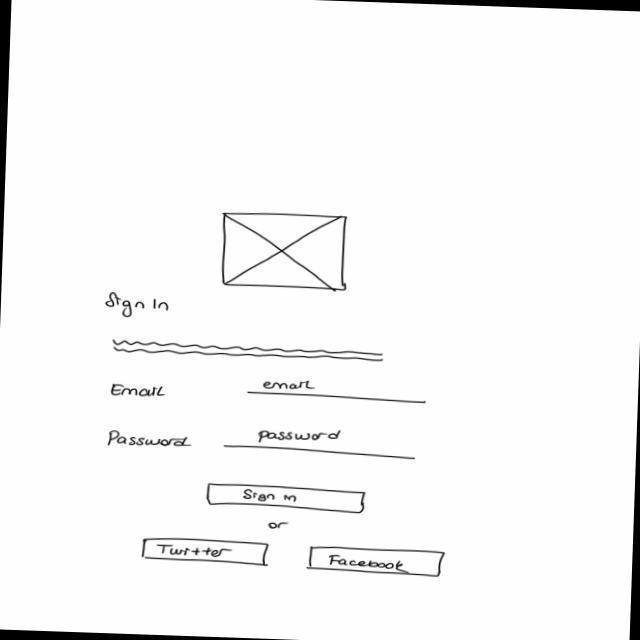button: (206, 483, 368, 517), (305, 546, 445, 579), (141, 536, 271, 566)
image: (220, 210, 352, 293)
input: (223, 424, 419, 462), (246, 377, 430, 406)
label: (103, 292, 174, 319), (105, 430, 192, 451), (108, 381, 171, 399), (266, 519, 292, 530)
textbox: (111, 339, 389, 365)
